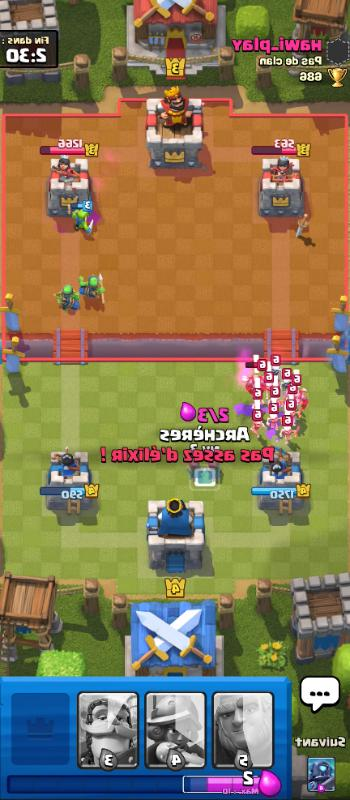archere: (183, 462, 204, 485), (205, 461, 222, 484)
gobelin: (71, 210, 94, 240)
gobelin_lances: (51, 280, 83, 316), (79, 270, 107, 307)
squelette: (282, 398, 300, 416), (279, 427, 297, 444), (282, 410, 298, 427), (249, 395, 264, 413), (265, 414, 280, 431), (269, 364, 282, 382), (266, 382, 280, 398), (250, 422, 263, 439), (269, 365, 282, 382), (266, 394, 278, 409), (291, 367, 299, 389), (290, 390, 302, 402), (283, 380, 292, 393)
